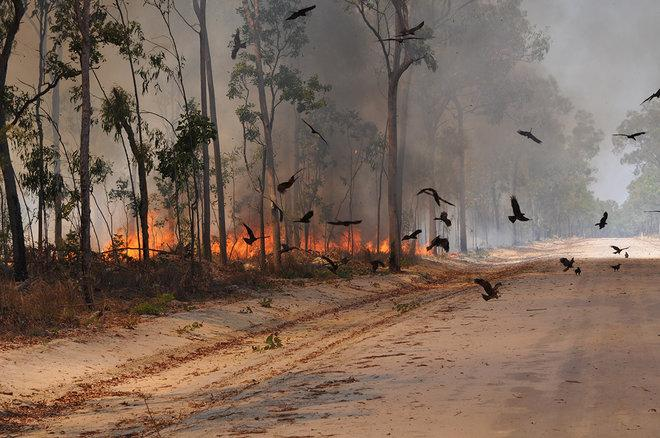Fire: (103, 190, 417, 273)
